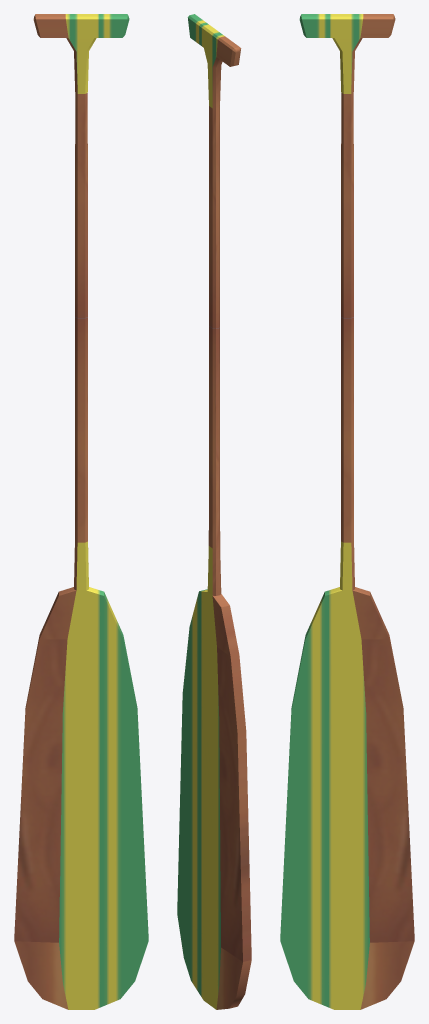
Rendered from oar-1.fbx.
The picture shows the model from 3 angles, left to right: view 1: azimuth 90°, elevation 25°; view 2: azimuth 210°, elevation 25°; view 3: azimuth 270°, elevation 25°; orthographic projection.
Parts seen in each view (by area): view 1: pCube8; view 2: pCube8; view 3: pCube8.
Boxes of the visible parts, x1,y1,x2,y2 form: pCube8: (14,14,148,1009); pCube8: (177,14,251,1009); pCube8: (280,14,414,1009).
Bounding box in the file's own units: 0.4155 × 44.19 × 5.42.
1 material, 1 textured.
